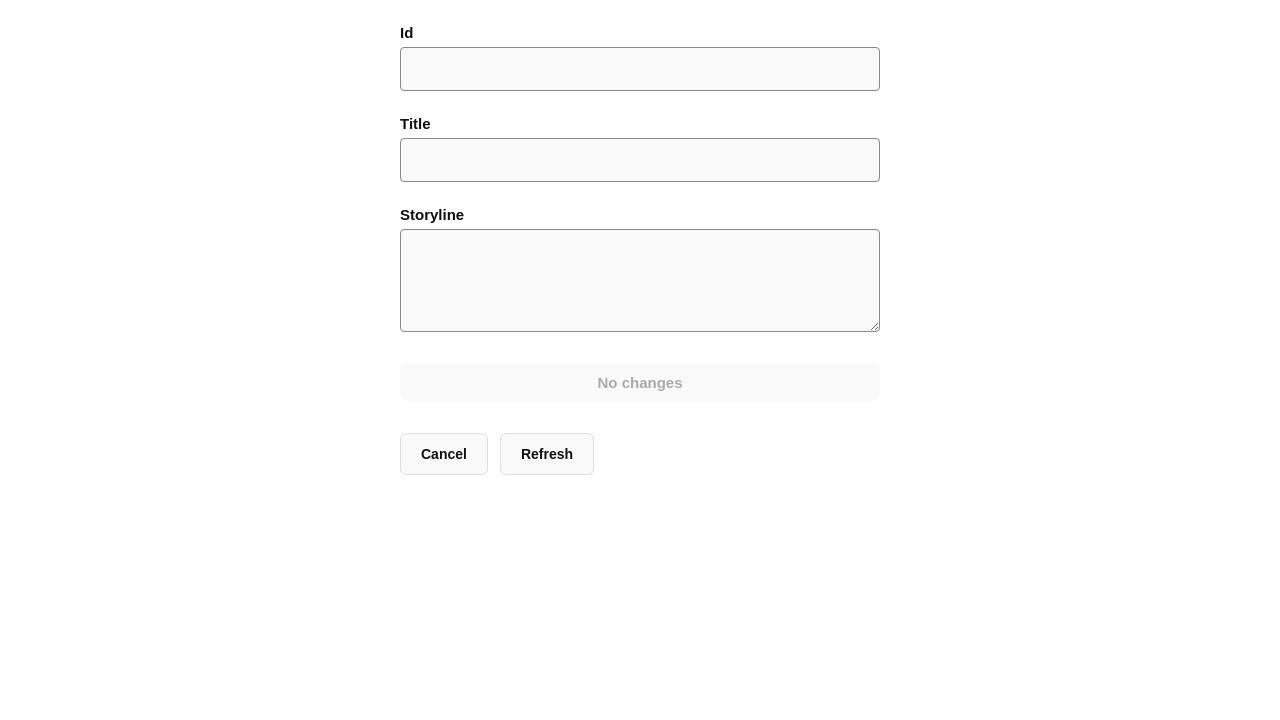
shows failure modal when API returns an error
This screenshot has width=1280, height=720.
Type "binnenhof" into the field labelled "Id" at point(640, 69), box [400,47,880,91]
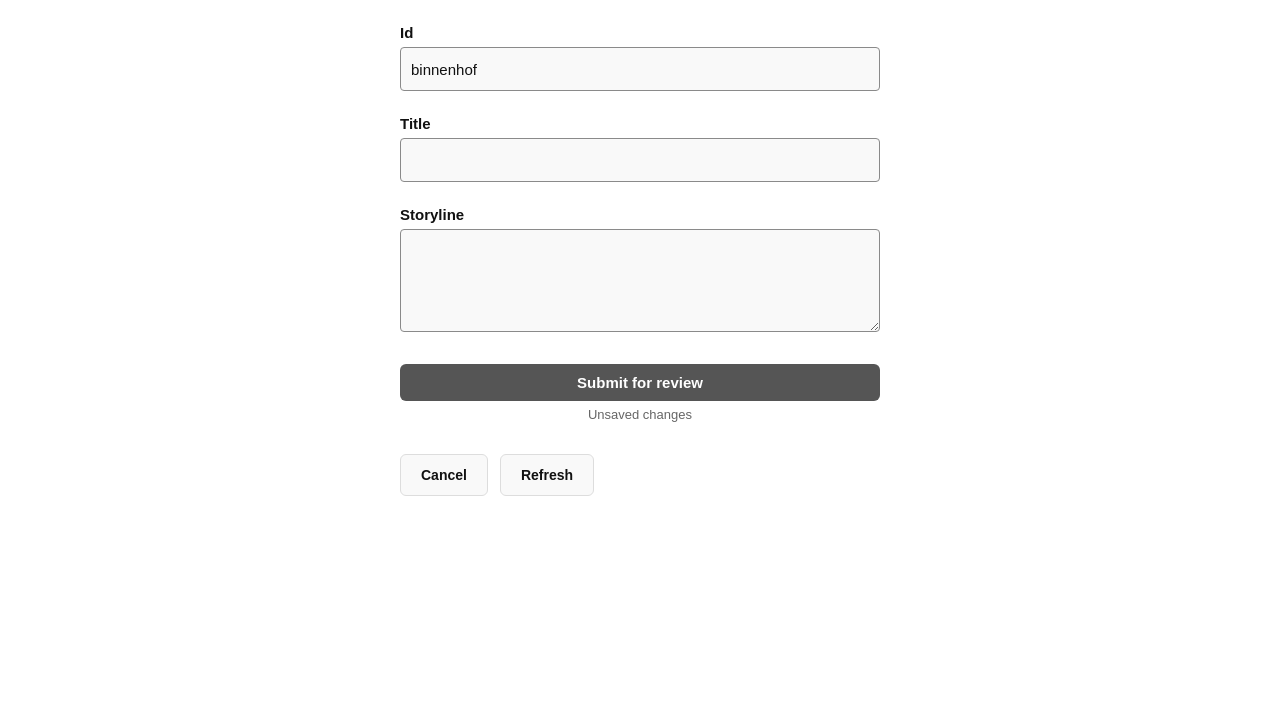
Type "Binnenhof" into the field labelled "Title" at point(640, 160), box [400,138,880,182]
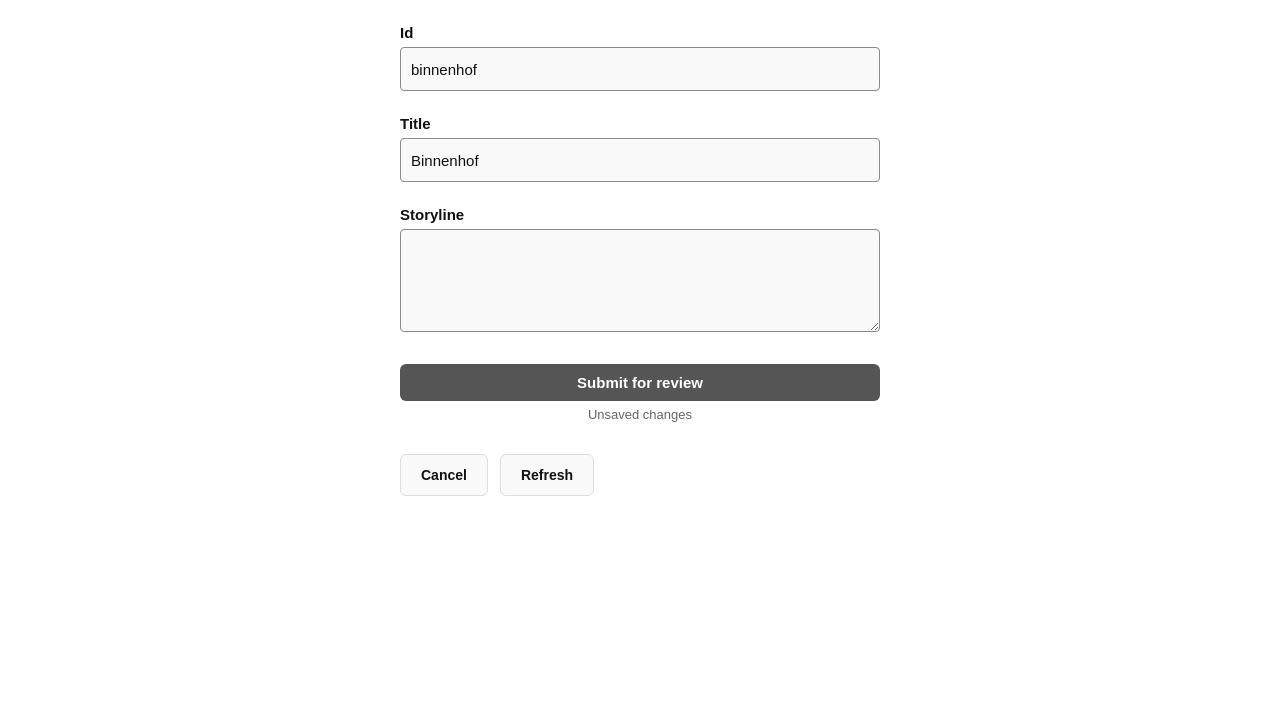
Type "A great place." into the text box labelled "Storyline" at point(640, 280), box [400,229,880,332]
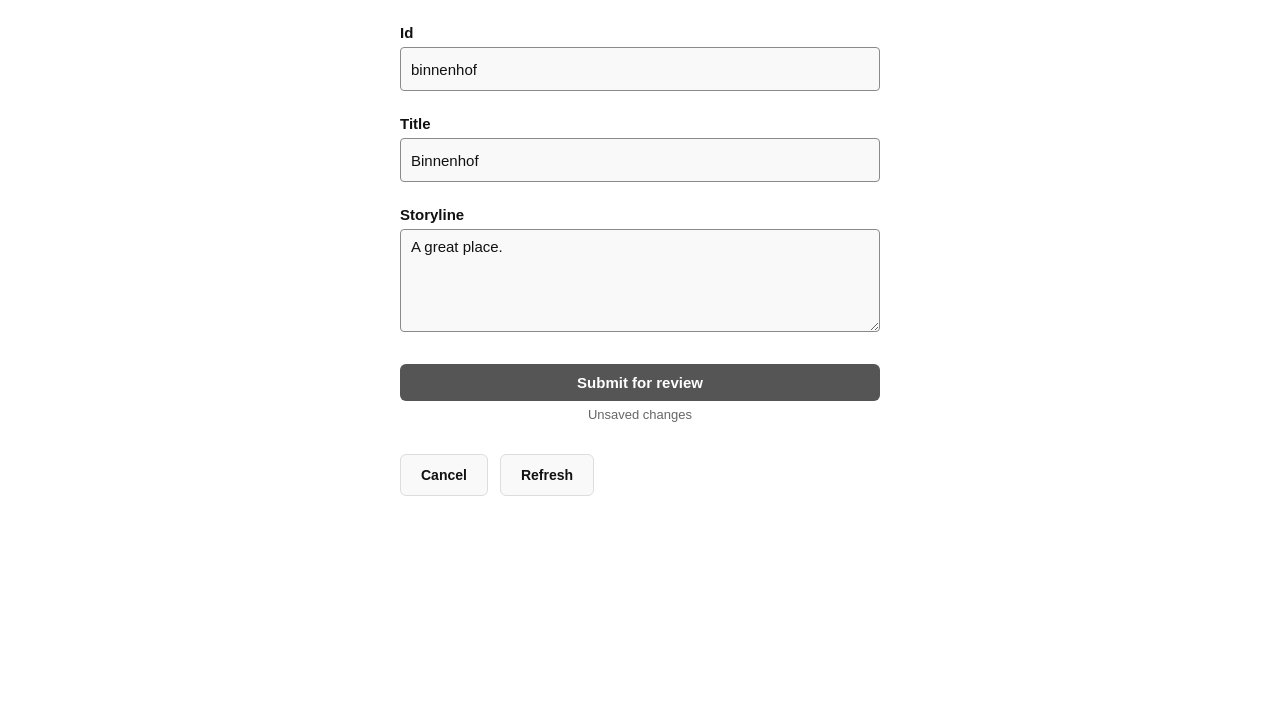
Click the button "Submit for review" at point(640, 382), box [400,364,880,401]
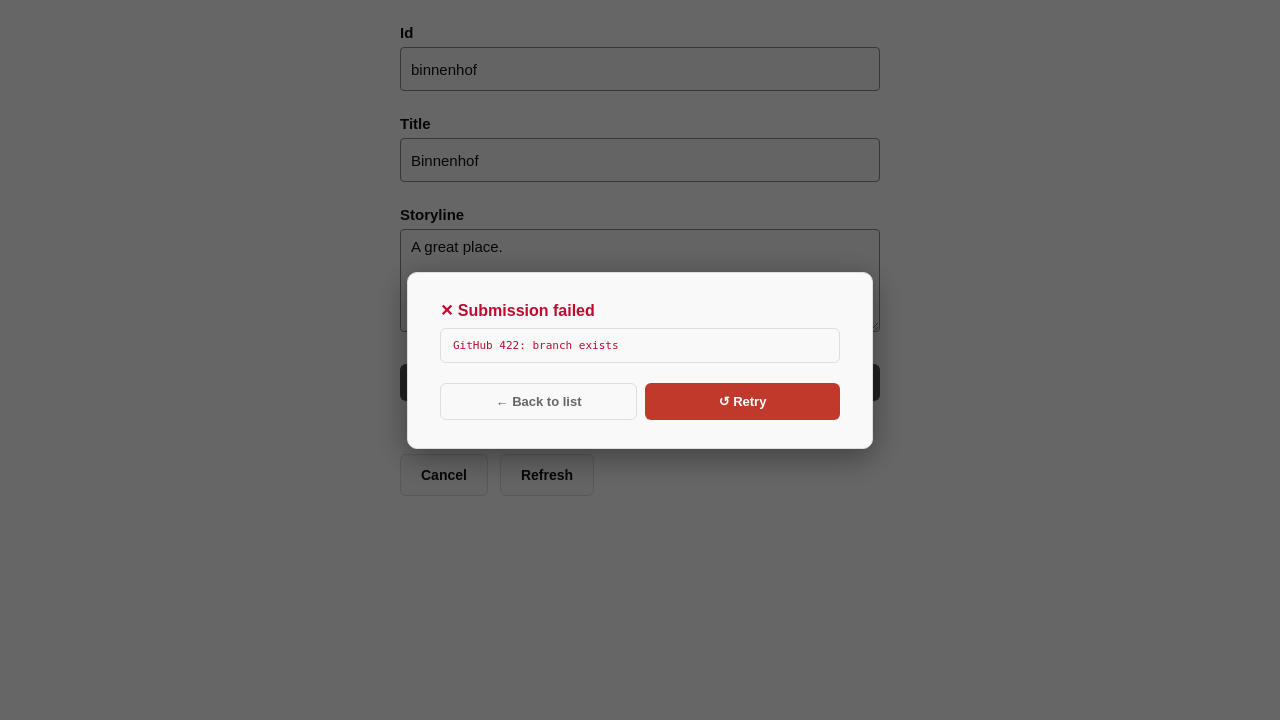
Now the heading "✕ Submission failed" is shown, box [440,302,595,318]
Now the text "GitHub 422: branch exists" is shown, box [440,328,840,362]
